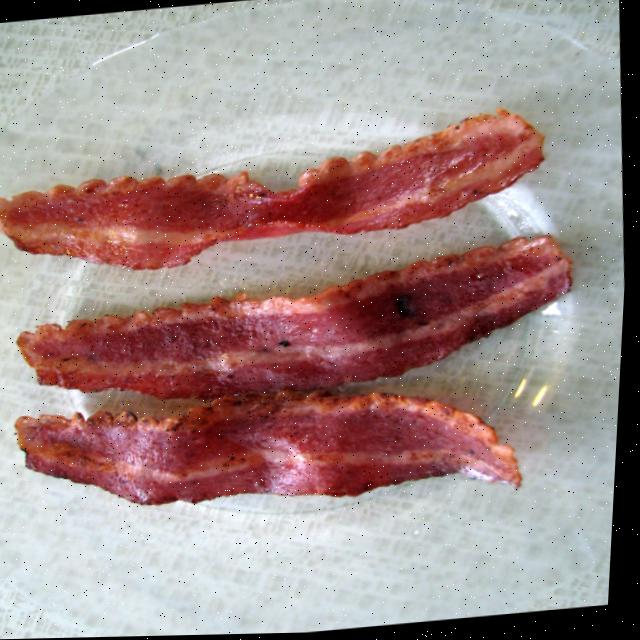Bacon: (20, 237, 574, 399), (0, 110, 545, 269), (19, 391, 526, 504)
